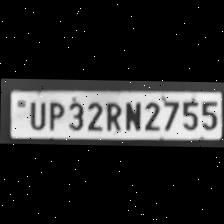2: (141, 97, 161, 130), (84, 98, 103, 129)
3: (63, 98, 83, 129)
5: (198, 96, 218, 130), (178, 96, 198, 129)
7: (160, 98, 178, 130)
N: (121, 97, 141, 130)
P: (44, 98, 64, 130)
R: (102, 98, 122, 130)
U: (24, 97, 46, 128)
